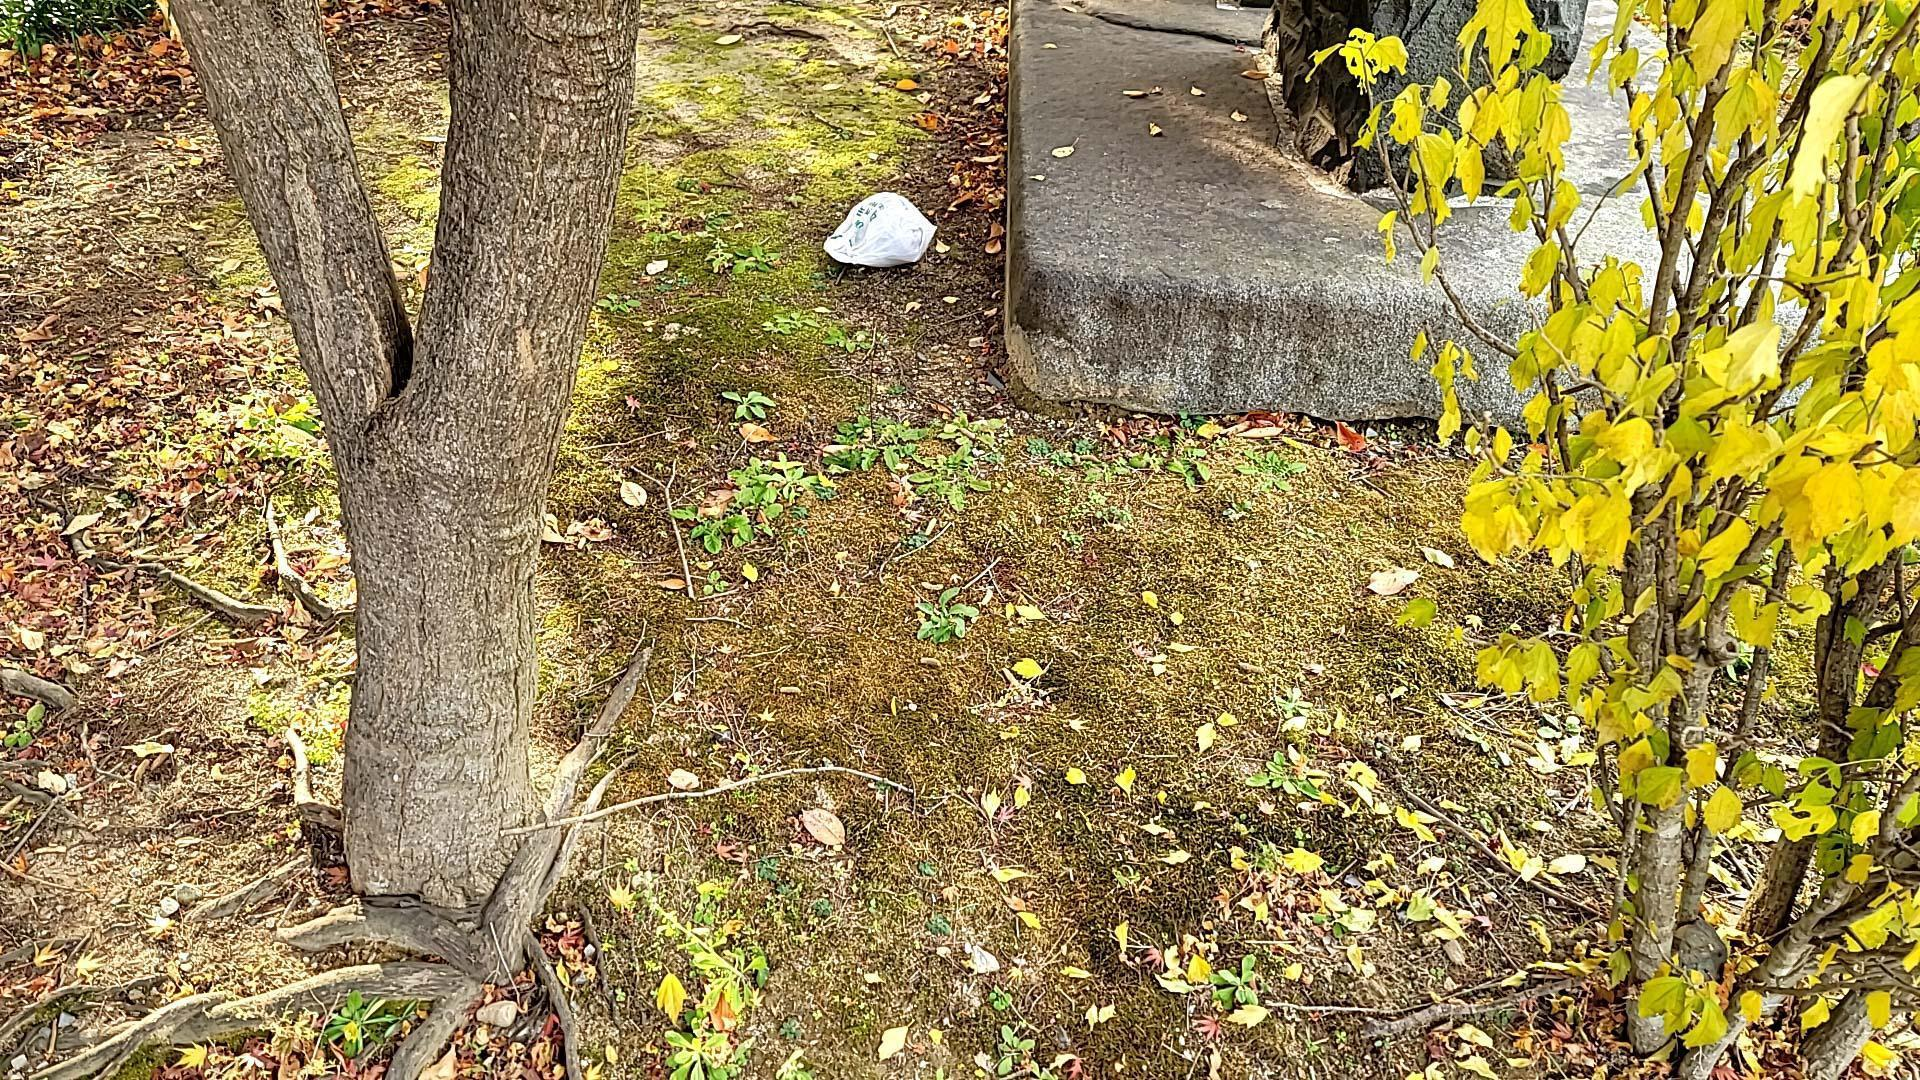white_bag: (816, 183, 943, 280)
